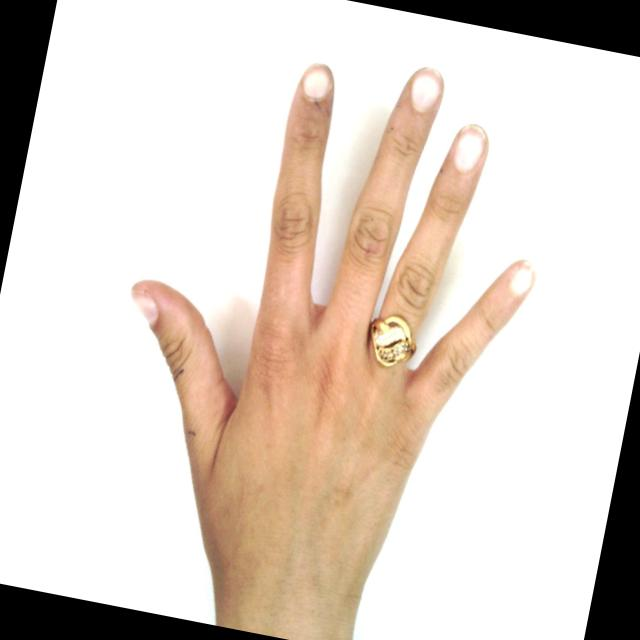Nail: (453, 123, 486, 171), (411, 67, 441, 110), (302, 63, 332, 99), (130, 288, 156, 326), (510, 263, 534, 294)
